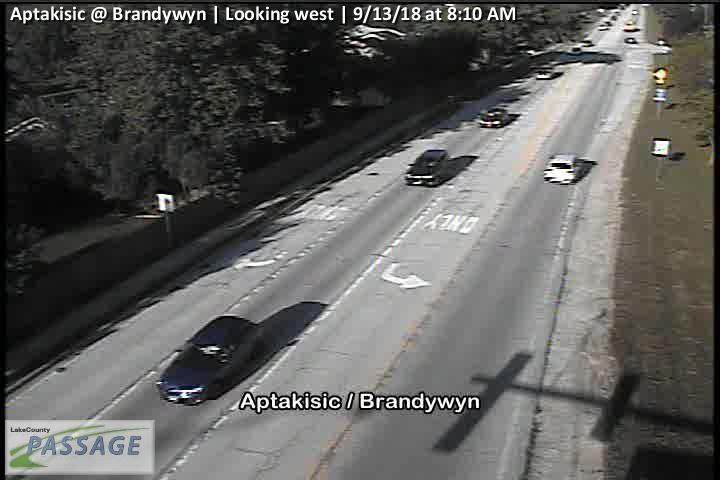Sedan: (156, 315, 262, 408), (404, 148, 450, 186), (544, 153, 594, 186), (479, 108, 514, 128), (536, 68, 556, 80), (624, 37, 637, 44), (568, 47, 581, 54), (581, 40, 592, 46), (597, 24, 608, 30)
